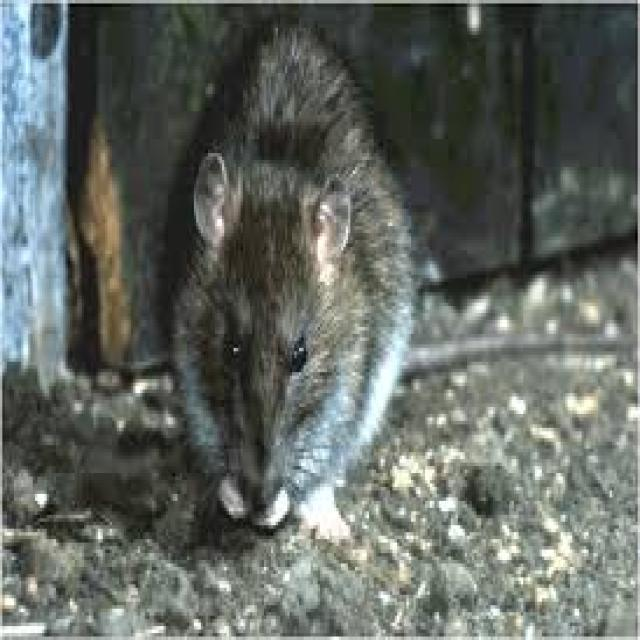Rat: (109, 0, 475, 586)
